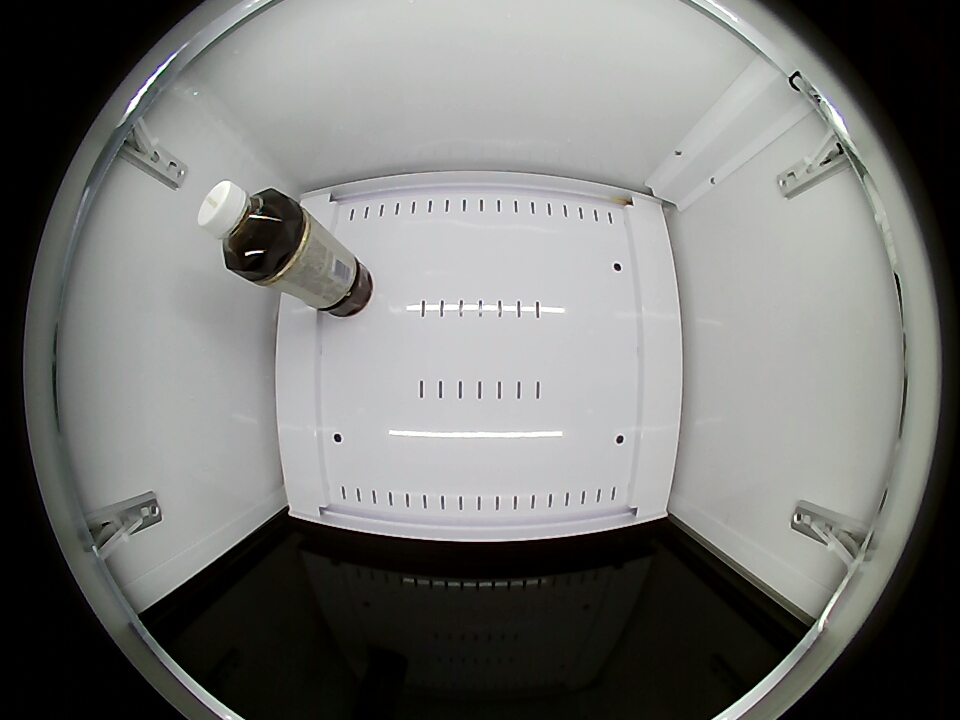wulongcha: (197, 181, 290, 275)
